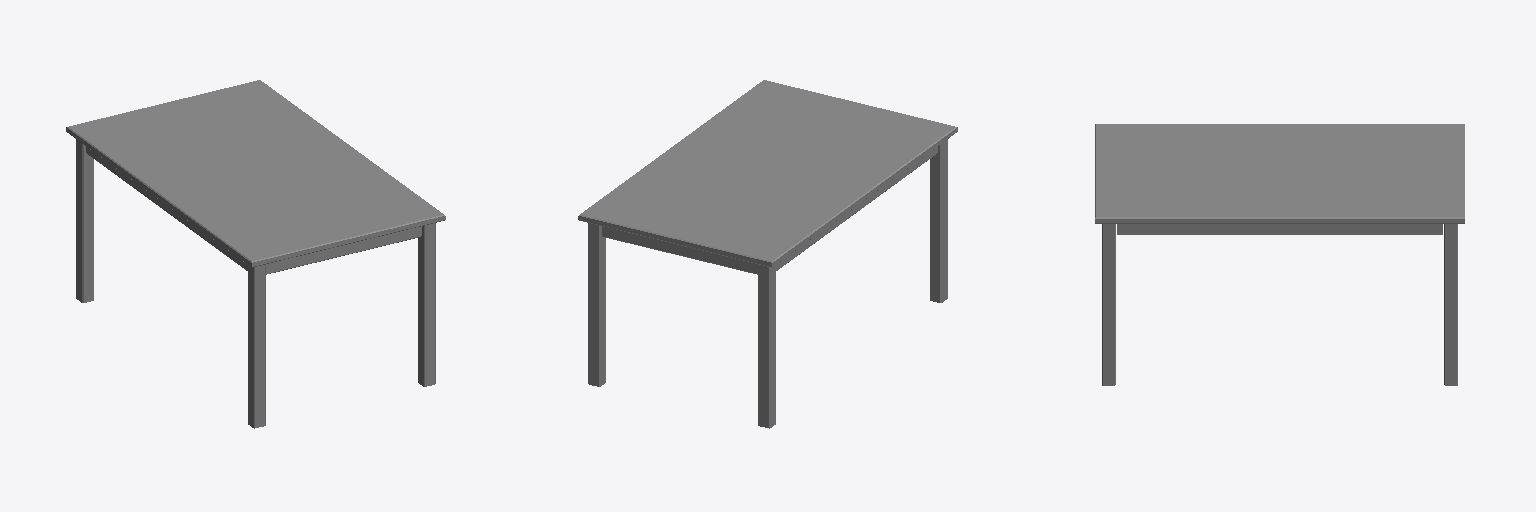
The model's file is Table.obj.
The picture shows the model from 3 angles: view 1: azimuth 30°, elevation 25°; view 2: azimuth 150°, elevation 25°; view 3: azimuth 270°, elevation 25°; orthographic projection.
Parts seen in each view (by area): view 1: table; view 2: table; view 3: table.
Part boxes in pixels (x1,y1,x2,y2): table: (66,80,445,428); table: (578,80,957,428); table: (1095,124,1464,385).
Bounding box in the file's own units: 33.8 × 28.44 × 55.83.